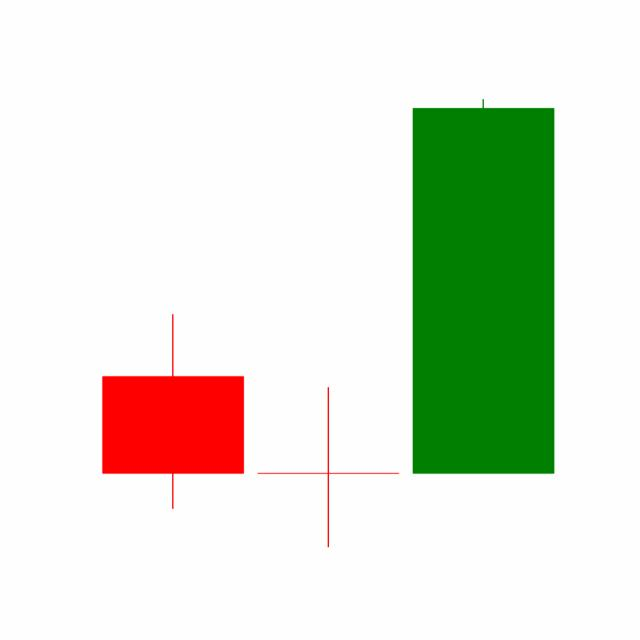Marubozu: (405, 95, 561, 477)
